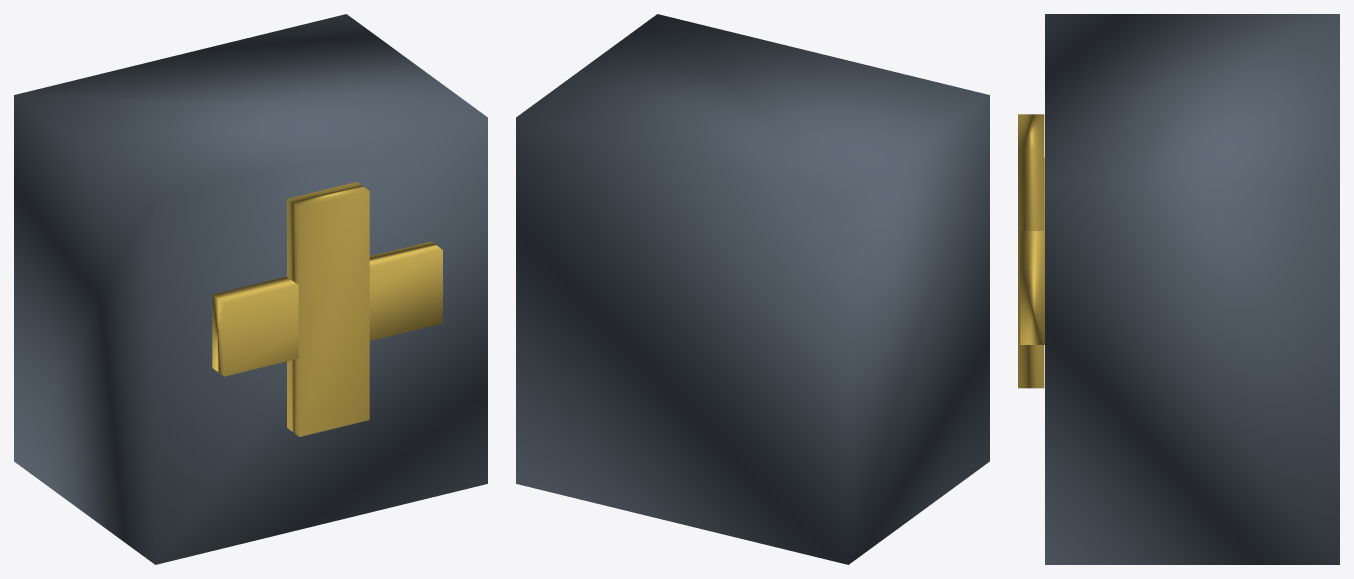
The model's file is coin_cache.glb.
3 views of the same model, side by side, from view 1: azimuth 30°, elevation 25°; view 2: azimuth 150°, elevation 25°; view 3: azimuth 270°, elevation 25° (orthographic). The views are drawn at different scales.
Visible parts, largest first — view 1: Hardware; view 2: Hardware; view 3: Hardware.
Boxes of the visible parts, x1,y1,x2,y2 form: Hardware: [14, 14, 487, 564]; Hardware: [516, 14, 989, 564]; Hardware: [1018, 14, 1339, 564].
Size of the model in its own units: 0.38 by 0.4 by 0.3055.
